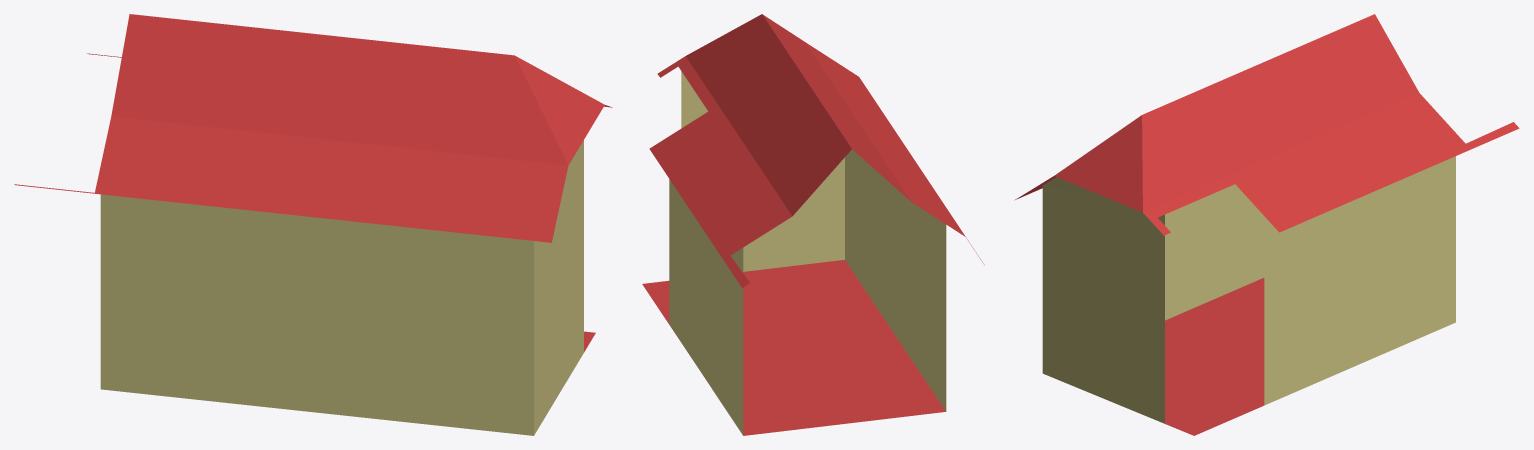
The picture shows the model from 3 angles, left to right: view 1: azimuth 30°, elevation 25°; view 2: azimuth 150°, elevation 25°; view 3: azimuth 270°, elevation 25°; orthographic projection. The views are drawn at different scales.
Bounding box in the file's own units: 23.11 × 24.34 × 14.59.
